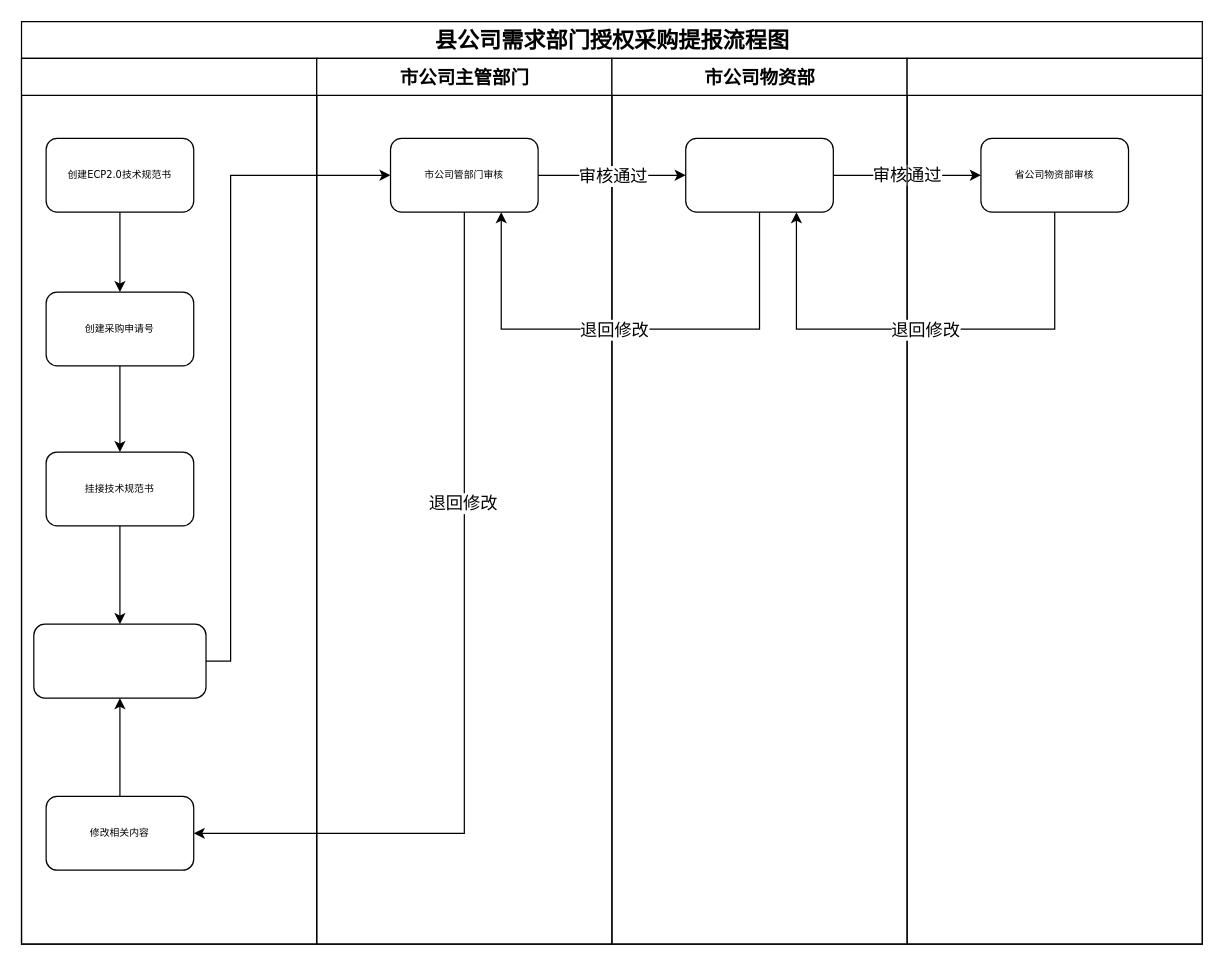
Image size: 1224x966. Some labels were removed from this diagram. The box of each missing label's shape, as (x1, y1, x2, y2) in pixels:
市公司物资部审核: (684, 137, 833, 212)
提交采购申请: (33, 623, 206, 698)
省物资部: (906, 57, 1202, 944)
需求部门: (20, 57, 317, 944)
